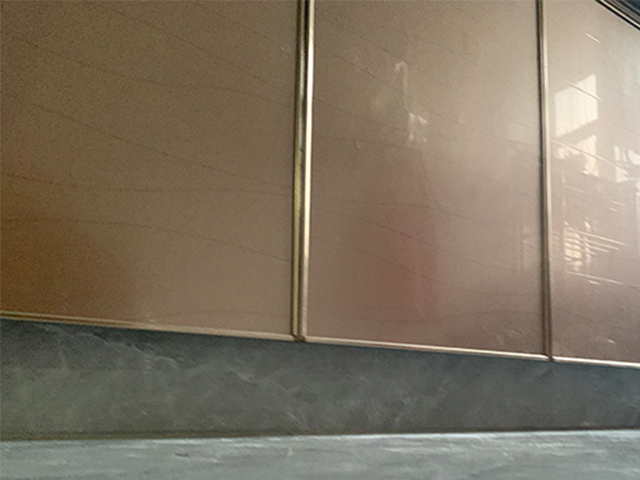cabinet: (1, 1, 640, 436)
